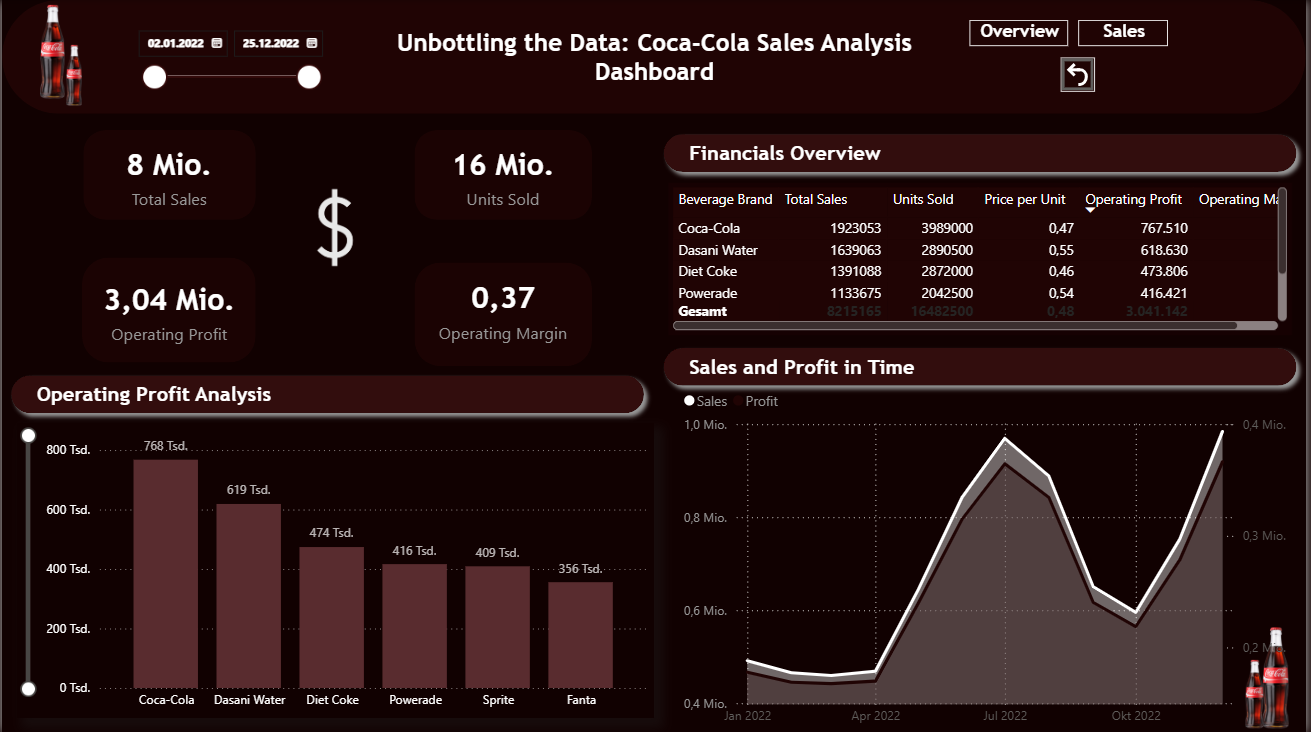

The page's visual inventory and layout, read from the dashboard file:
{"tool":"powerbi","page":{"name":"Overview","canvas":[1280,720],"ordinal":0},"visuals":[{"type":"shape","box":[78.5,252.8,170.6,103.1],"z":0},{"type":"shape","box":[404.9,127.6,174.2,88.3],"z":1000},{"type":"card","fields":{"Values":["Sum(Data.Units Sold)"]},"box":[419.6,121.5,144.8,100.6],"z":2000},{"type":"shape","box":[79.8,127.6,169.3,88.3],"z":3000},{"type":"shape","box":[0,0,1279.8,111.7],"z":4000},{"type":"slicer","fields":{"Values":["Data.Invoice Date"]},"box":[121.5,19.6,201.2,108],"z":5000},{"type":"textbox","box":[338.7,23.3,603.7,66.3],"z":6000},{"type":"actionButton","title":"Overview","box":[949.7,19.6,96.9,25.8],"z":7000},{"type":"actionButton","title":"Sales","box":[1056.4,19.6,88.3,25.8],"z":8000},{"type":"image","box":[29.4,0,40.5,101.8],"z":10000},{"type":"image","box":[50.3,39.3,40.5,69.9],"z":11000},{"type":"shape","box":[640.5,122.7,639.3,55.2],"z":12000},{"type":"pivotTable","fields":{"Rows":["Data.Beverage Brand"],"Values":["Sum(Data.Total Sales)","Sum(Data.Units Sold)","Avg(Data.Price per Unit)","Sum(Data.Operating Profit)","Avg(Data.Operating Margin)"]},"box":[654,179.1,612.3,149.7],"z":13000},{"type":"columnChart","fields":{"Y":["Sum(Data.Operating Profit)"],"Category":["Data.Beverage Brand"]},"box":[14.7,414.7,624.5,290.8],"z":14000},{"type":"shape","box":[0,359.5,639.3,55.2],"z":15000},{"type":"card","fields":{"Values":["Sum(Data.Total Sales)"]},"box":[79.8,121.5,169.3,100.6],"z":16000},{"type":"card","fields":{"Values":["Sum(Data.Operating Profit)"]},"box":[69.9,254,189,100.6],"z":17000},{"type":"shape","box":[404.9,257.7,174.2,101.8],"z":18000},{"type":"card","fields":{"Values":["Avg(Data.Operating Margin)"]},"box":[419.6,252.8,144.8,100.6],"z":19000},{"type":"image","box":[1219.6,611,60.1,109.2],"z":21000},{"type":"image","box":[1208.6,642.9,41.7,77.3],"z":22000},{"type":"image","box":[279.3,172.1,93.9,102.8],"z":23000},{"type":"lineChart","fields":{"Y":["Sum(Data.Total Sales)"],"Category":["Data.Invoice Date.Variation.Datumshierarchie.Jahr","Data.Invoice Date.Variation.Datumshierarchie.Quartal","Data.Invoice Date.Variation.Datumshierarchie.Monat"],"Y2":["Sum(Data.Operating Profit)"]},"box":[663.8,373,602.5,347.2],"z":26000},{"type":"shape","box":[640.5,332.5,639.3,55.2],"z":27000},{"type":"actionButton","box":[1039.1,55.9,33.5,33.5],"z":29000}]}

Visuals, with their boxes in screenshot pixels (x1, y1, x2, y2), scaled from the page's 1280x720 canvas onto the 1311x732 screenshot:
shape: [80, 257, 255, 362]
shape: [415, 130, 593, 219]
card - Sum(Data.Units Sold): [430, 124, 578, 226]
shape: [82, 130, 255, 219]
shape: [0, 0, 1310, 114]
slicer - Data.Invoice Date: [124, 20, 331, 130]
textbox: [347, 24, 965, 91]
"Overview" actionButton: [973, 20, 1072, 46]
"Sales" actionButton: [1082, 20, 1172, 46]
image: [30, 0, 72, 103]
image: [52, 40, 93, 111]
shape: [656, 125, 1310, 181]
pivotTable - Data.Beverage Brand x Sum(Data.Total Sales): [670, 182, 1297, 334]
columnChart - Sum(Data.Operating Profit) x Data.Beverage Brand: [15, 422, 655, 717]
shape: [0, 365, 655, 422]
card - Sum(Data.Total Sales): [82, 124, 255, 226]
card - Sum(Data.Operating Profit): [72, 258, 265, 361]
shape: [415, 262, 593, 365]
card - Avg(Data.Operating Margin): [430, 257, 578, 359]
image: [1249, 621, 1310, 731]
image: [1238, 654, 1281, 731]
image: [286, 175, 382, 279]
lineChart - Sum(Data.Total Sales) x Data.Invoice Date.Variation.Datumshierarchie.Jahr: [680, 379, 1297, 731]
shape: [656, 338, 1310, 394]
actionButton: [1064, 57, 1099, 91]
